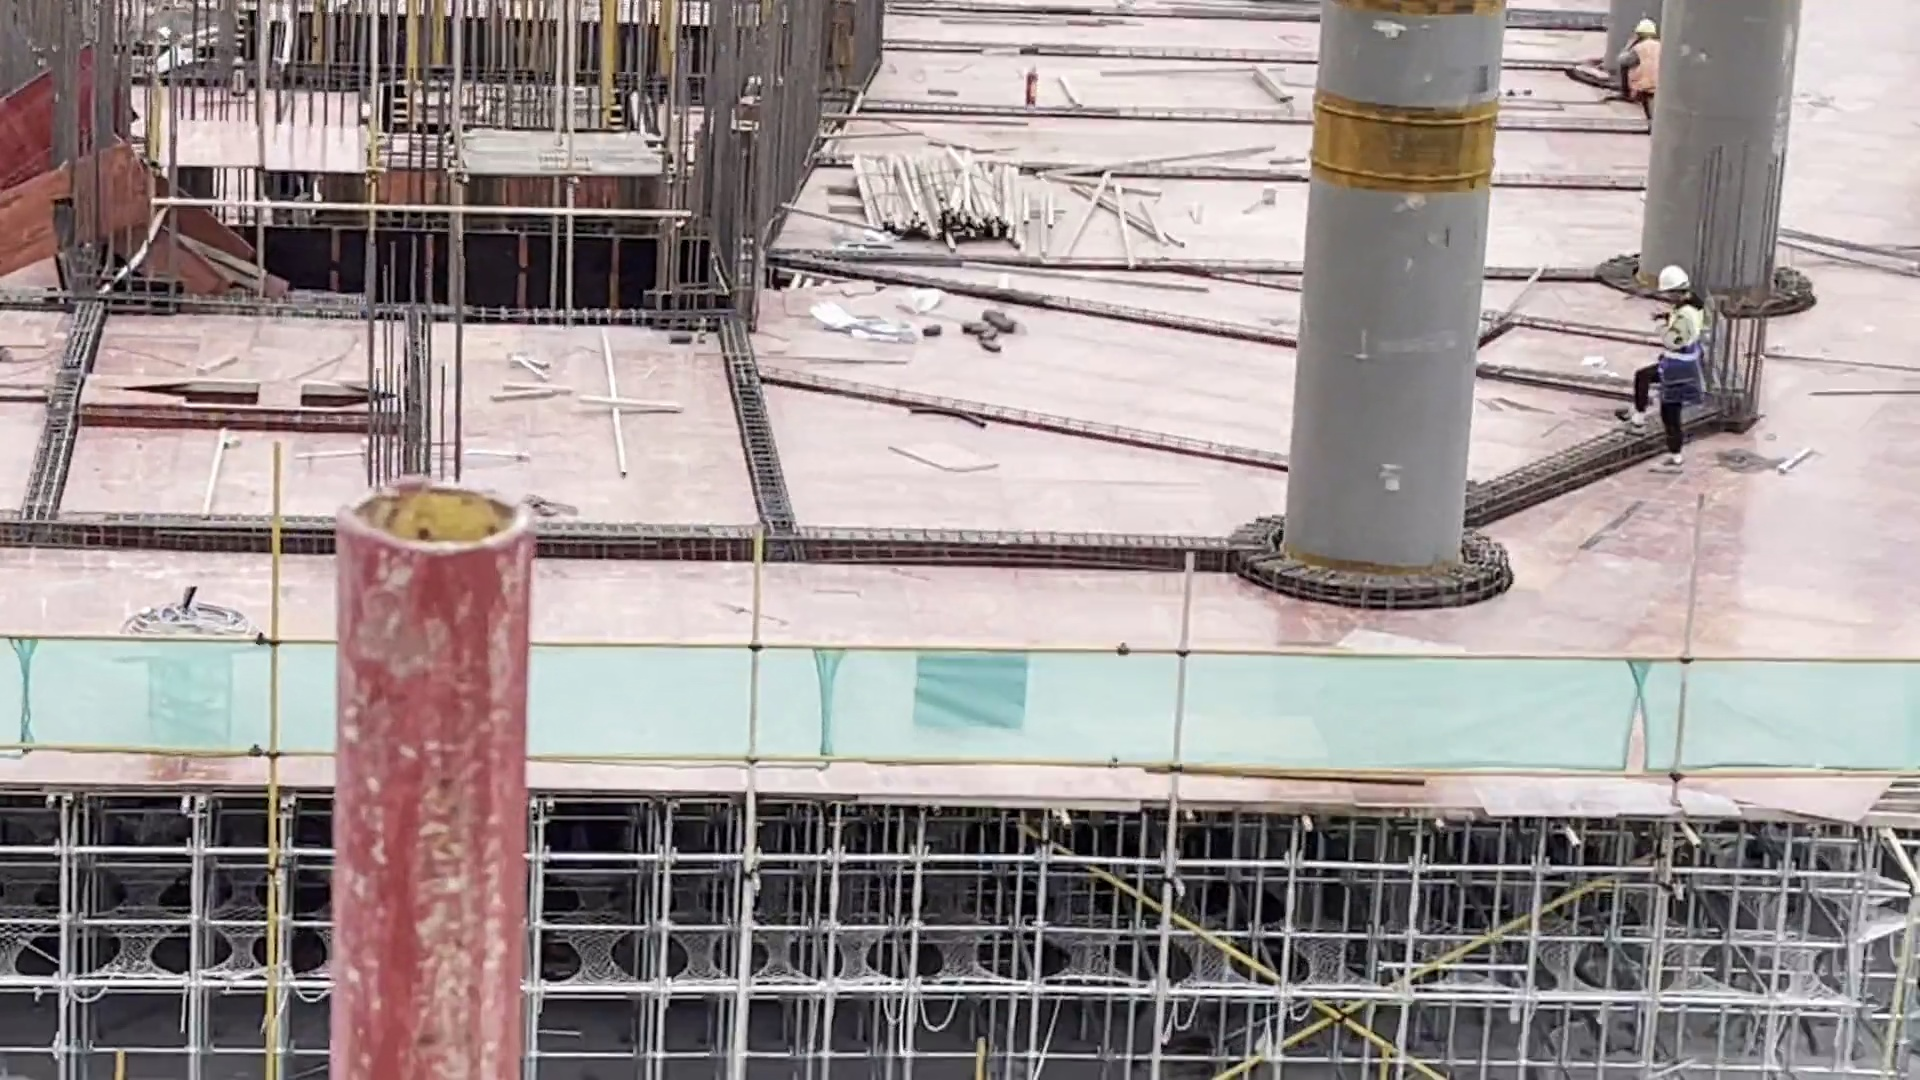helmet: (1655, 263, 1693, 293), (1637, 15, 1656, 35)
person: (1628, 264, 1707, 472), (1610, 15, 1666, 124)
vest: (1660, 305, 1703, 378), (1625, 41, 1659, 100)
